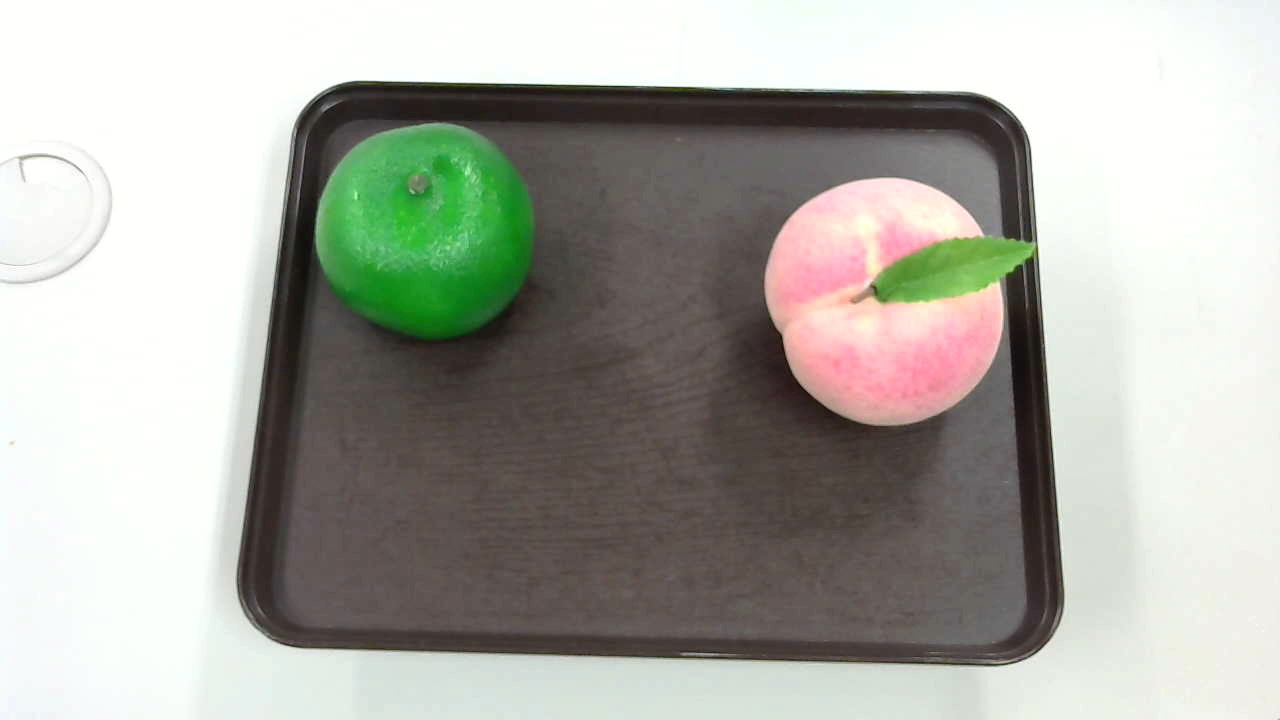green orange: (302, 116, 542, 344)
peach: (759, 172, 1042, 428)
